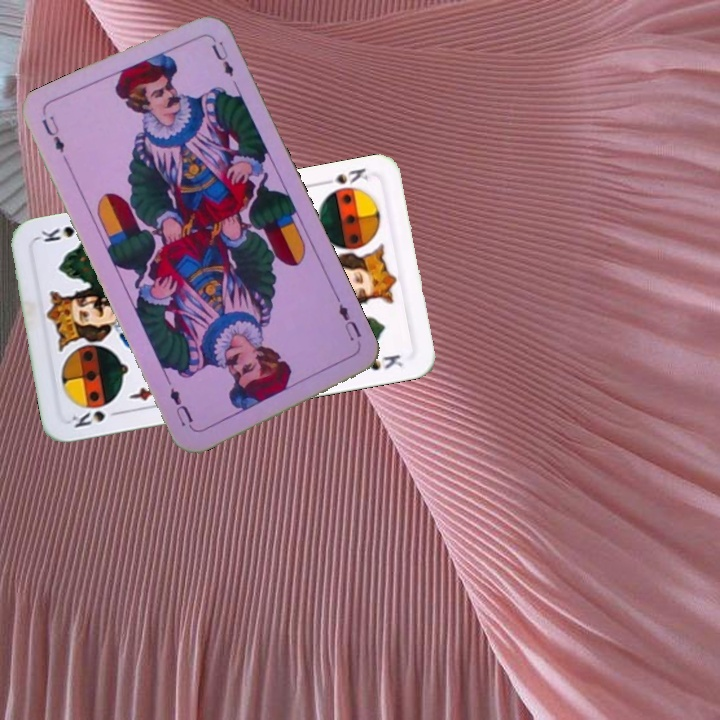EU: (38, 111, 72, 167), (333, 295, 365, 351)
SK: (67, 406, 125, 431), (317, 163, 371, 188)
